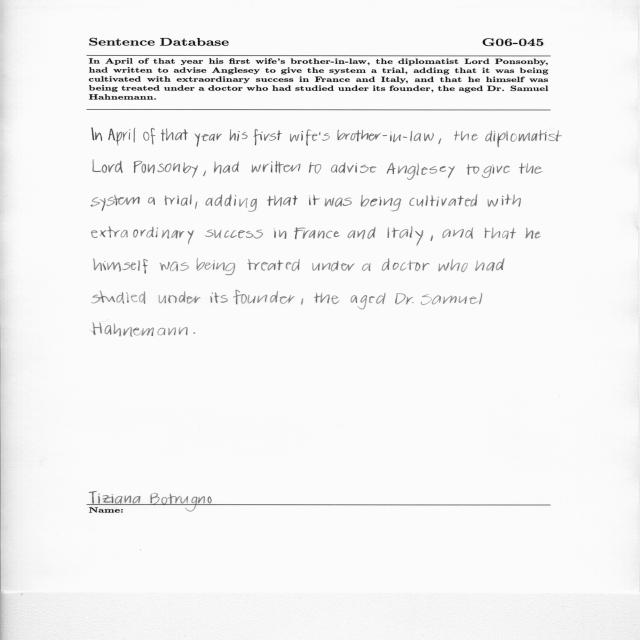word: (91, 227, 194, 245), (92, 323, 188, 337), (485, 130, 562, 147), (337, 130, 434, 143), (387, 163, 455, 180), (133, 161, 198, 178), (205, 194, 257, 212), (93, 258, 148, 274), (233, 290, 295, 304), (409, 195, 478, 207), (91, 195, 140, 211), (421, 293, 482, 305), (388, 226, 424, 246), (92, 291, 146, 304), (290, 129, 330, 146), (197, 258, 235, 275), (361, 195, 401, 211), (252, 161, 301, 174), (247, 259, 300, 271), (382, 258, 430, 271), (351, 293, 386, 310), (294, 227, 340, 239), (159, 291, 201, 304), (206, 230, 263, 239), (331, 162, 376, 173), (108, 128, 135, 146), (254, 129, 282, 145), (487, 194, 521, 207), (312, 261, 355, 271), (194, 133, 222, 147), (93, 160, 123, 173), (438, 259, 468, 272), (475, 258, 505, 271), (442, 227, 473, 239), (485, 228, 516, 240), (482, 165, 510, 178), (267, 196, 298, 207), (164, 194, 192, 206), (348, 227, 376, 239), (161, 129, 188, 141), (314, 292, 340, 304), (214, 162, 239, 174), (160, 262, 189, 272), (324, 197, 352, 207), (519, 163, 543, 174), (454, 131, 478, 141), (395, 293, 414, 305), (230, 129, 248, 141), (144, 128, 156, 145), (210, 293, 228, 304), (525, 227, 541, 239), (467, 164, 480, 175), (274, 228, 287, 239), (309, 162, 321, 173), (92, 128, 102, 141), (309, 195, 320, 205), (362, 263, 370, 271), (148, 197, 155, 205), (195, 201, 198, 209), (439, 138, 442, 144), (203, 171, 206, 177), (430, 235, 433, 241), (301, 298, 303, 305), (194, 332, 196, 334)
